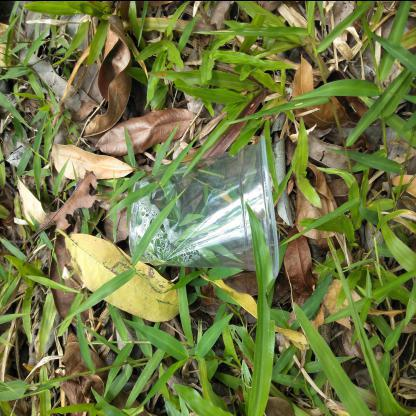plastik: (130, 133, 280, 281)
